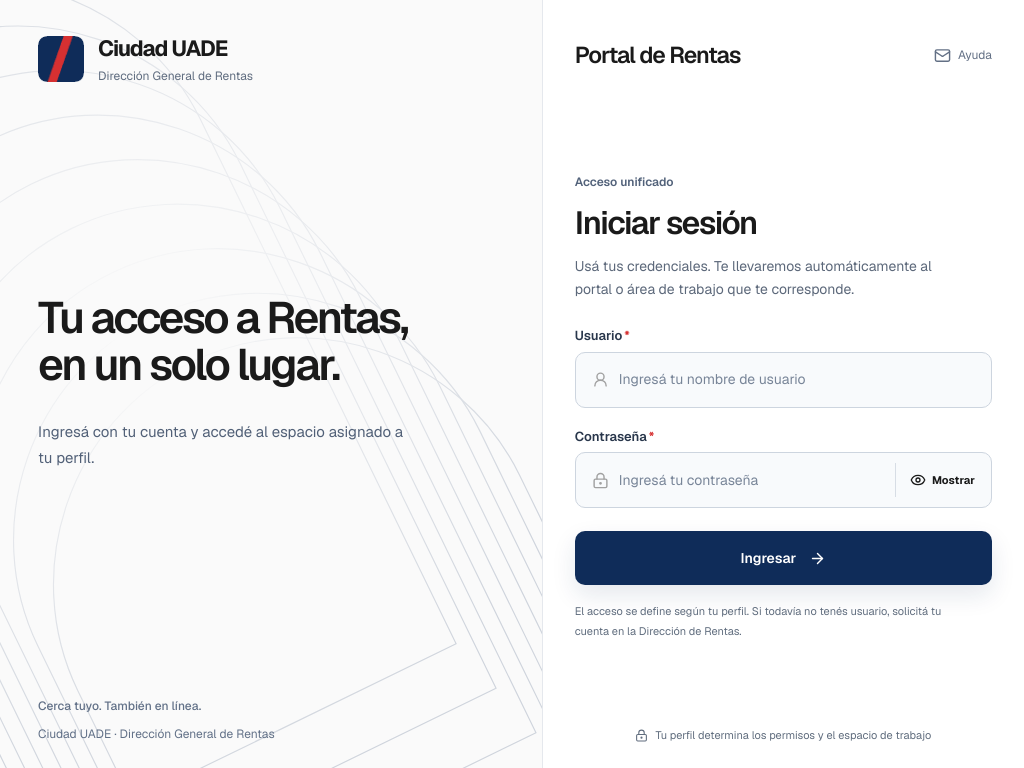
Test: comparación de versiones de un concepto › pide una segunda versión cuando sólo se eligió una
The width and height of the screenshot is (1024, 768).
In the field labelled "Usuario*": (797,380) [619,366,975,394], type "acastro"
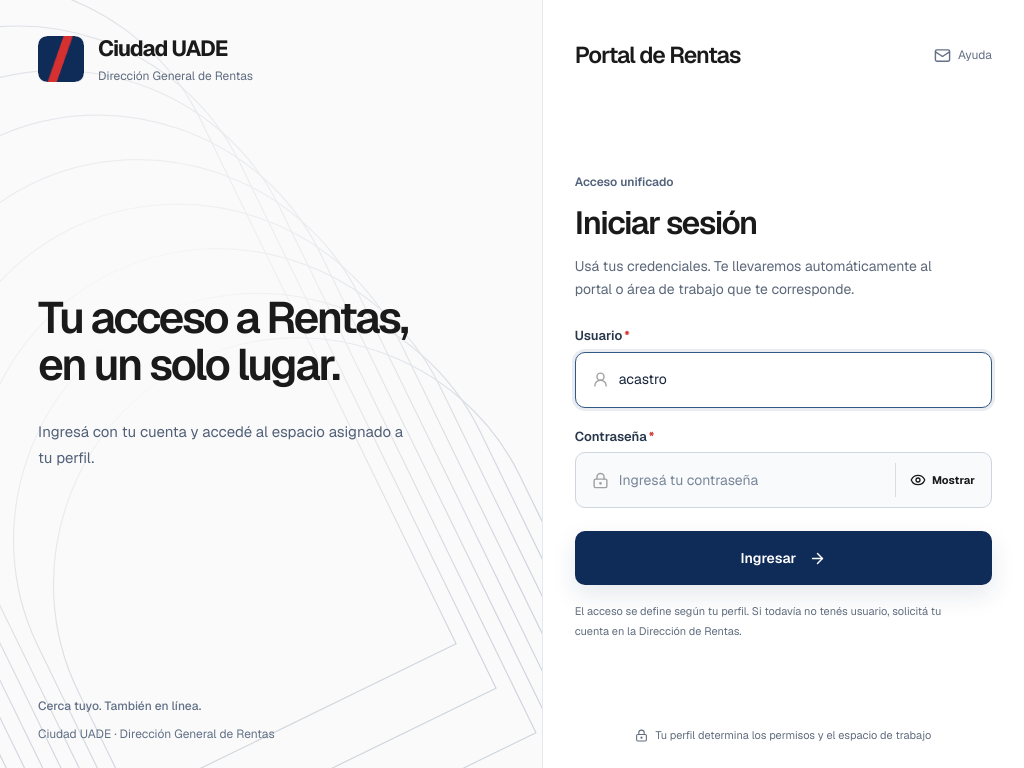
In the password field labelled "Contraseña*": (750,480) [619,466,881,494], type "audit123"
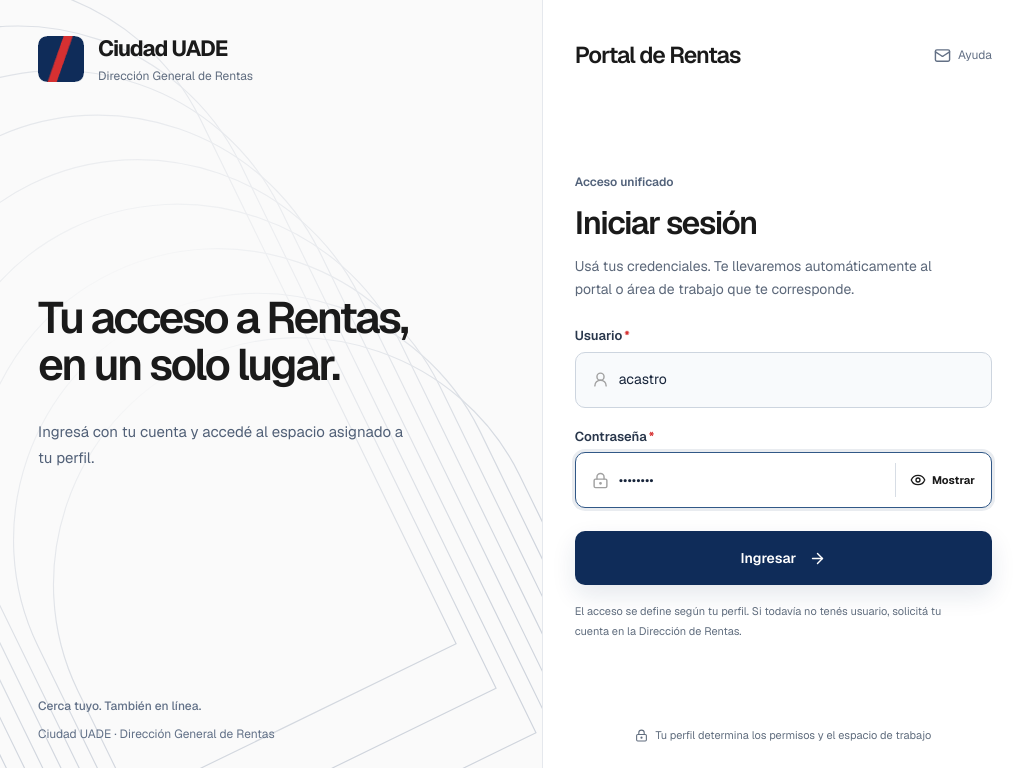
Click the button "Ingresar": (783,558) [575,531,992,585]
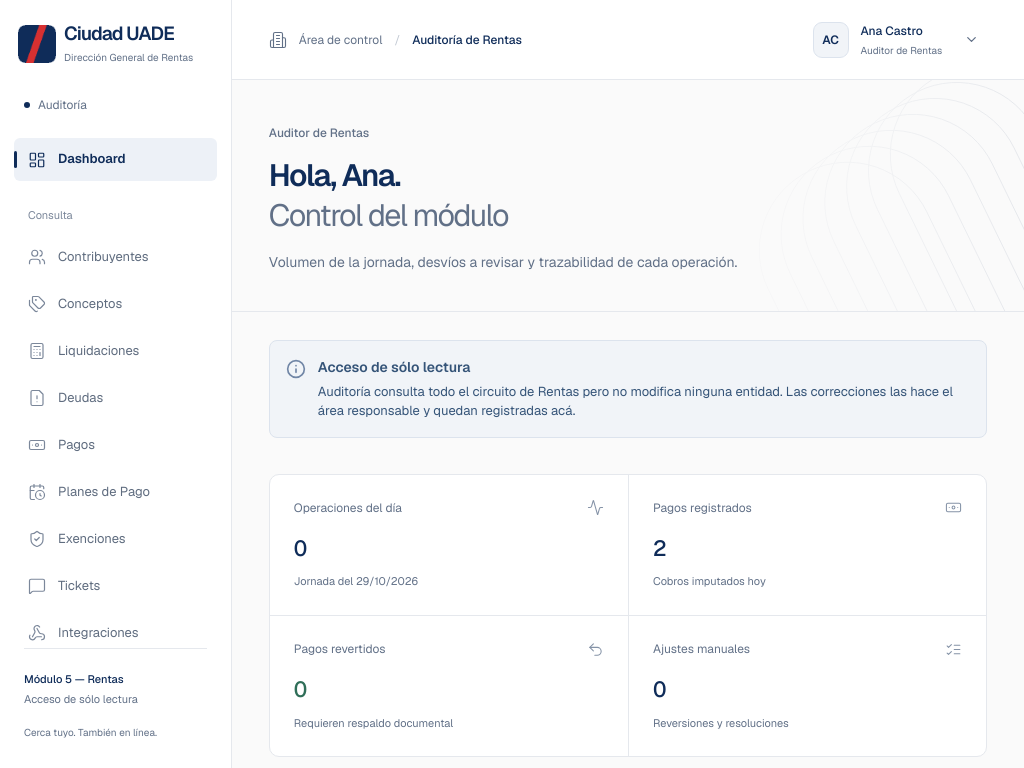
Expected: the heading "Hola, Ana. Control del módulo" is shown, [269,155,508,235]
Click the link "Conceptos": (75,304) [28,295,122,313]
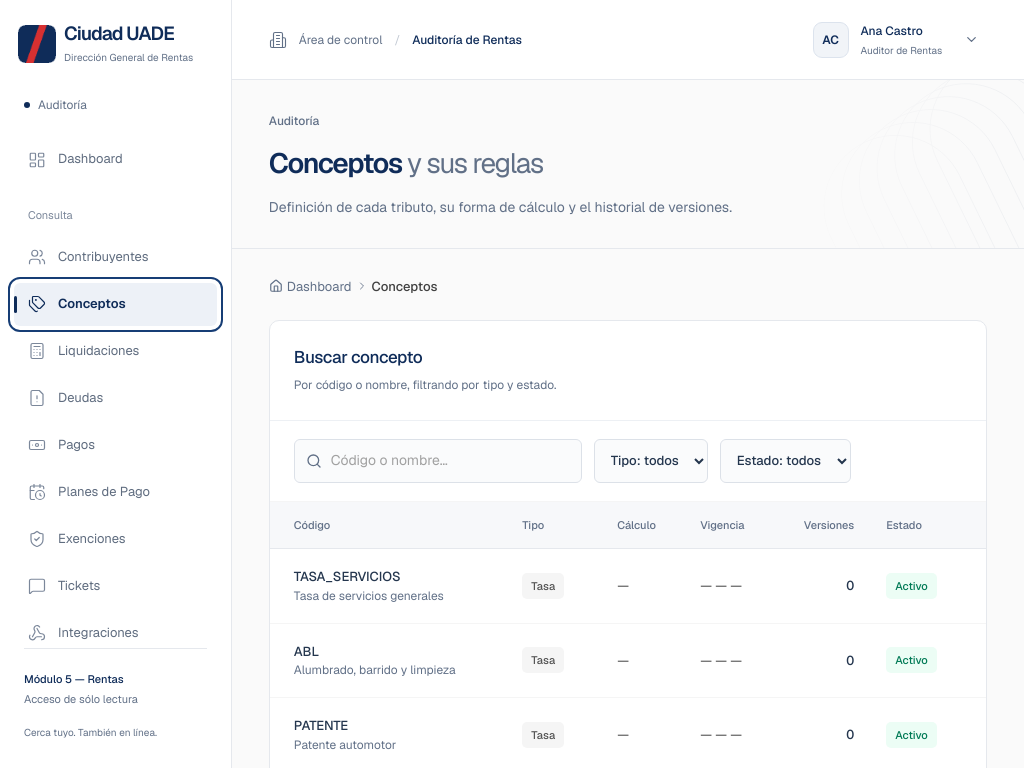
Click the text "TASA_SERVICIOS": (347,576) [294,568,400,585]
(page scrolled)
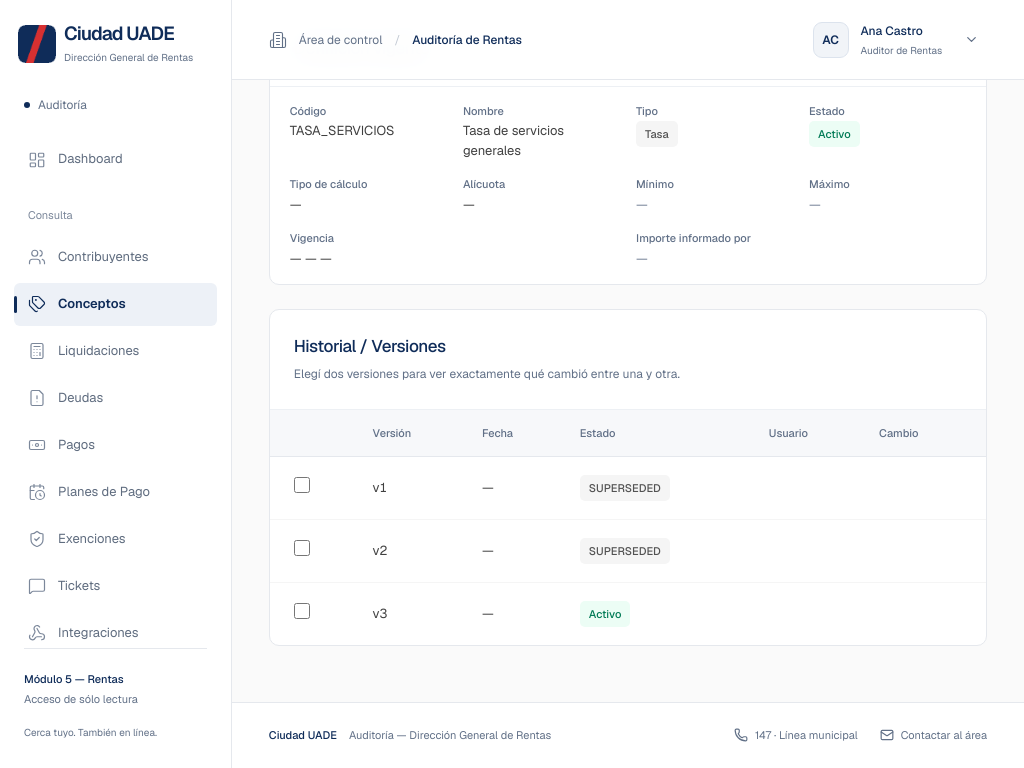
Click the checkbox named "comparar la versión 3": (302,611) [294,603,310,619]
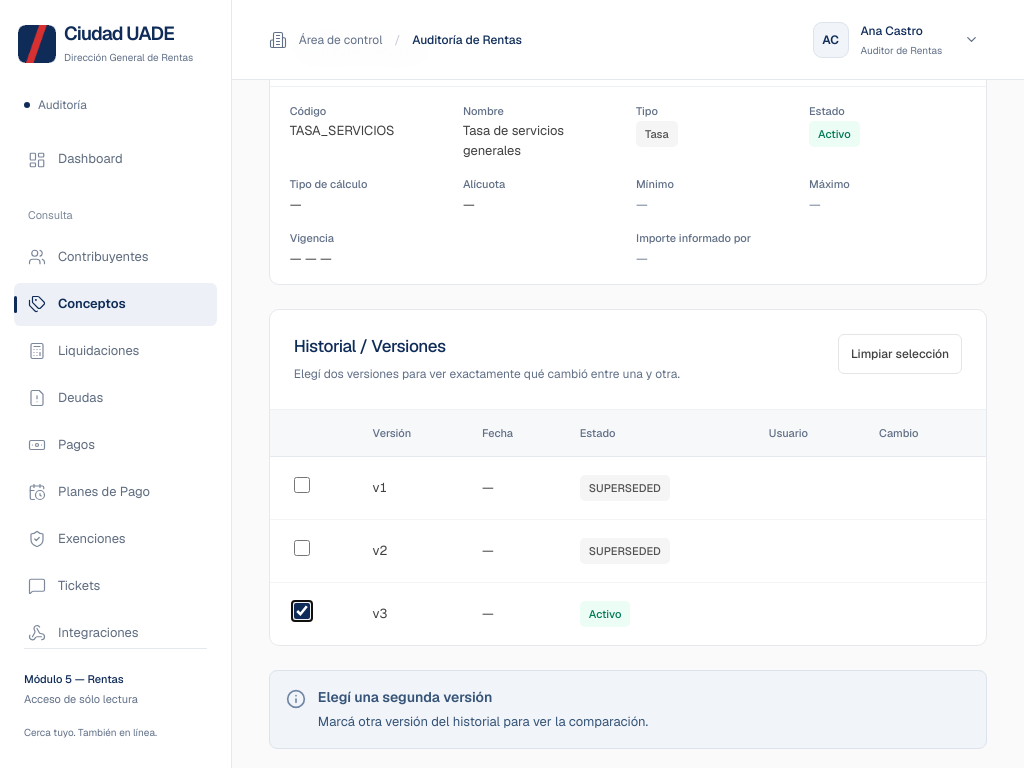
Expected: the text "Elegí una segunda versión" is shown, [318,688,492,706]
